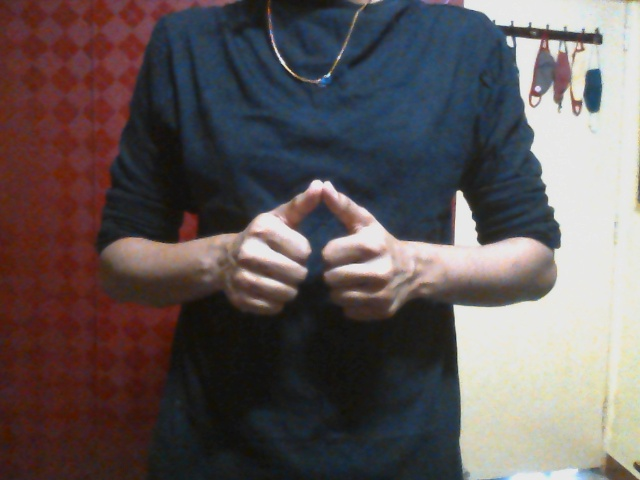A: (225, 177, 414, 324)
